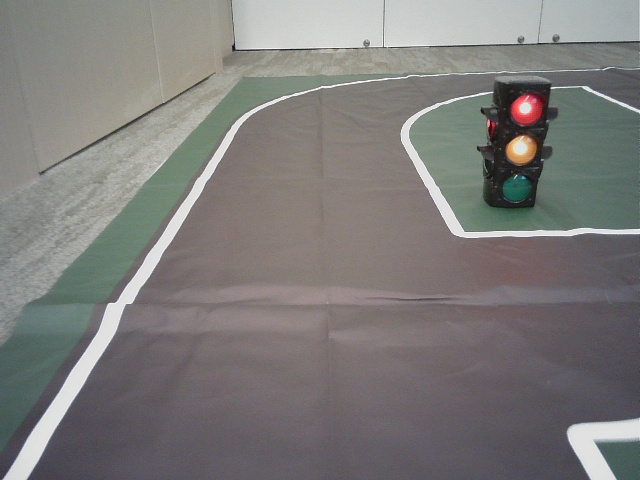red: (496, 85, 541, 205)
